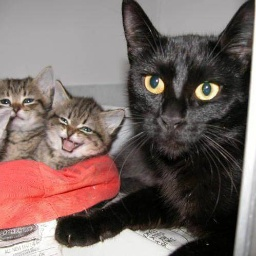cat: (0, 5, 256, 256)
